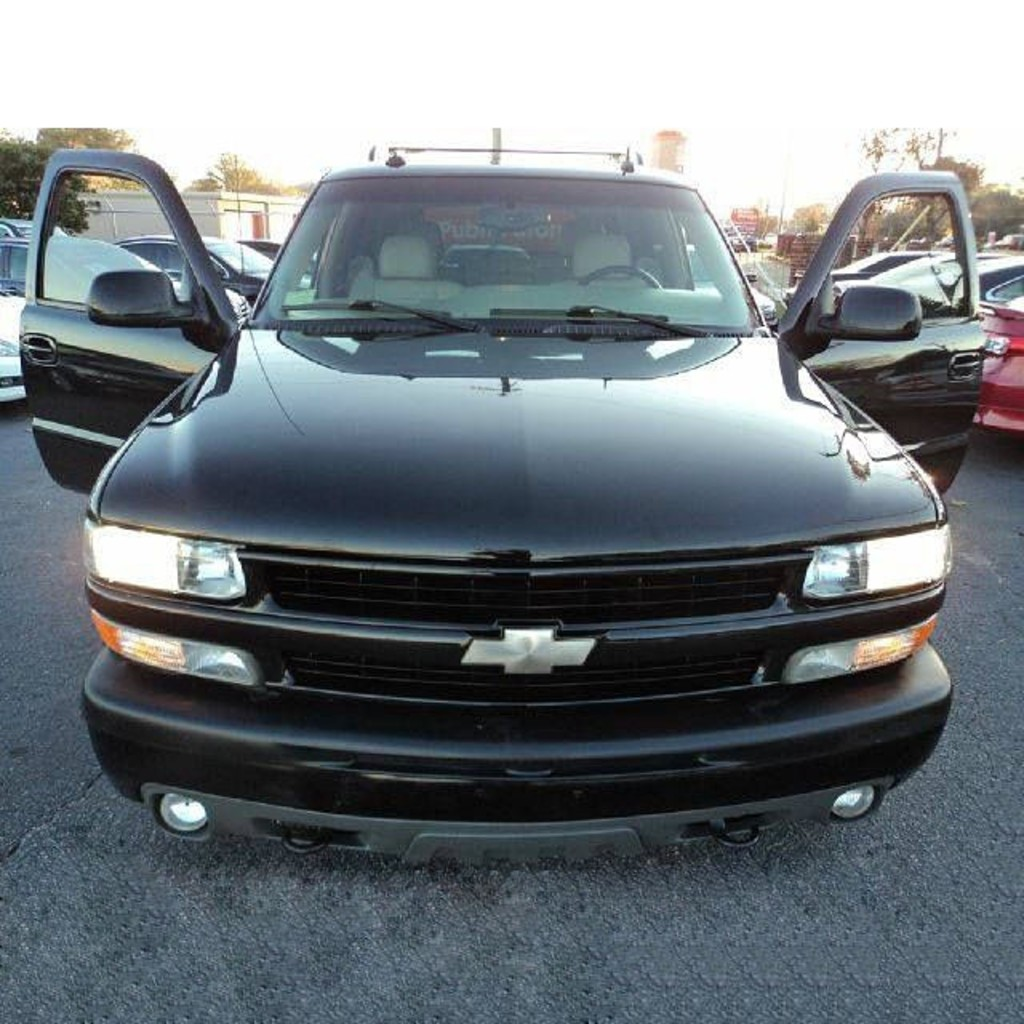Car: (30, 139, 956, 864), (828, 254, 1022, 438), (108, 240, 276, 313), (691, 244, 784, 323), (0, 241, 25, 400), (0, 216, 64, 235)
